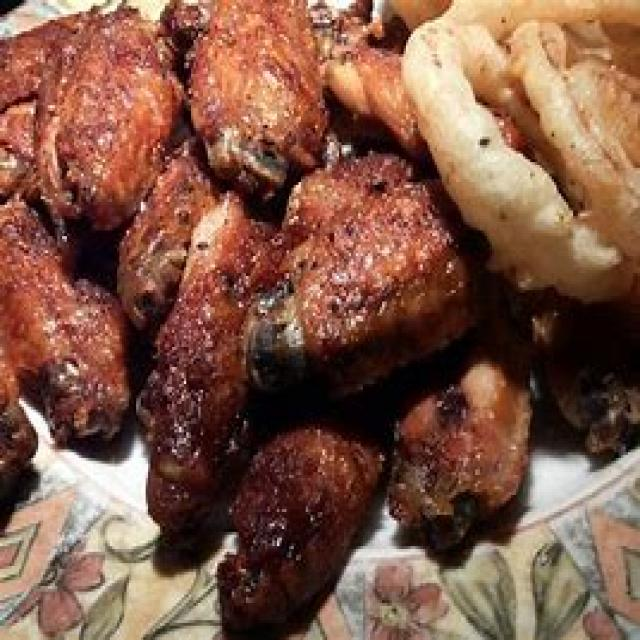Chicken Wings: (3, 3, 461, 640)
Onion Rings: (404, 5, 640, 302)
